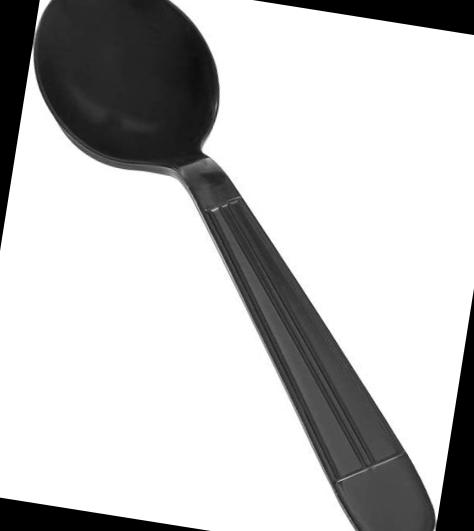Plastik: (37, 0, 419, 530)
